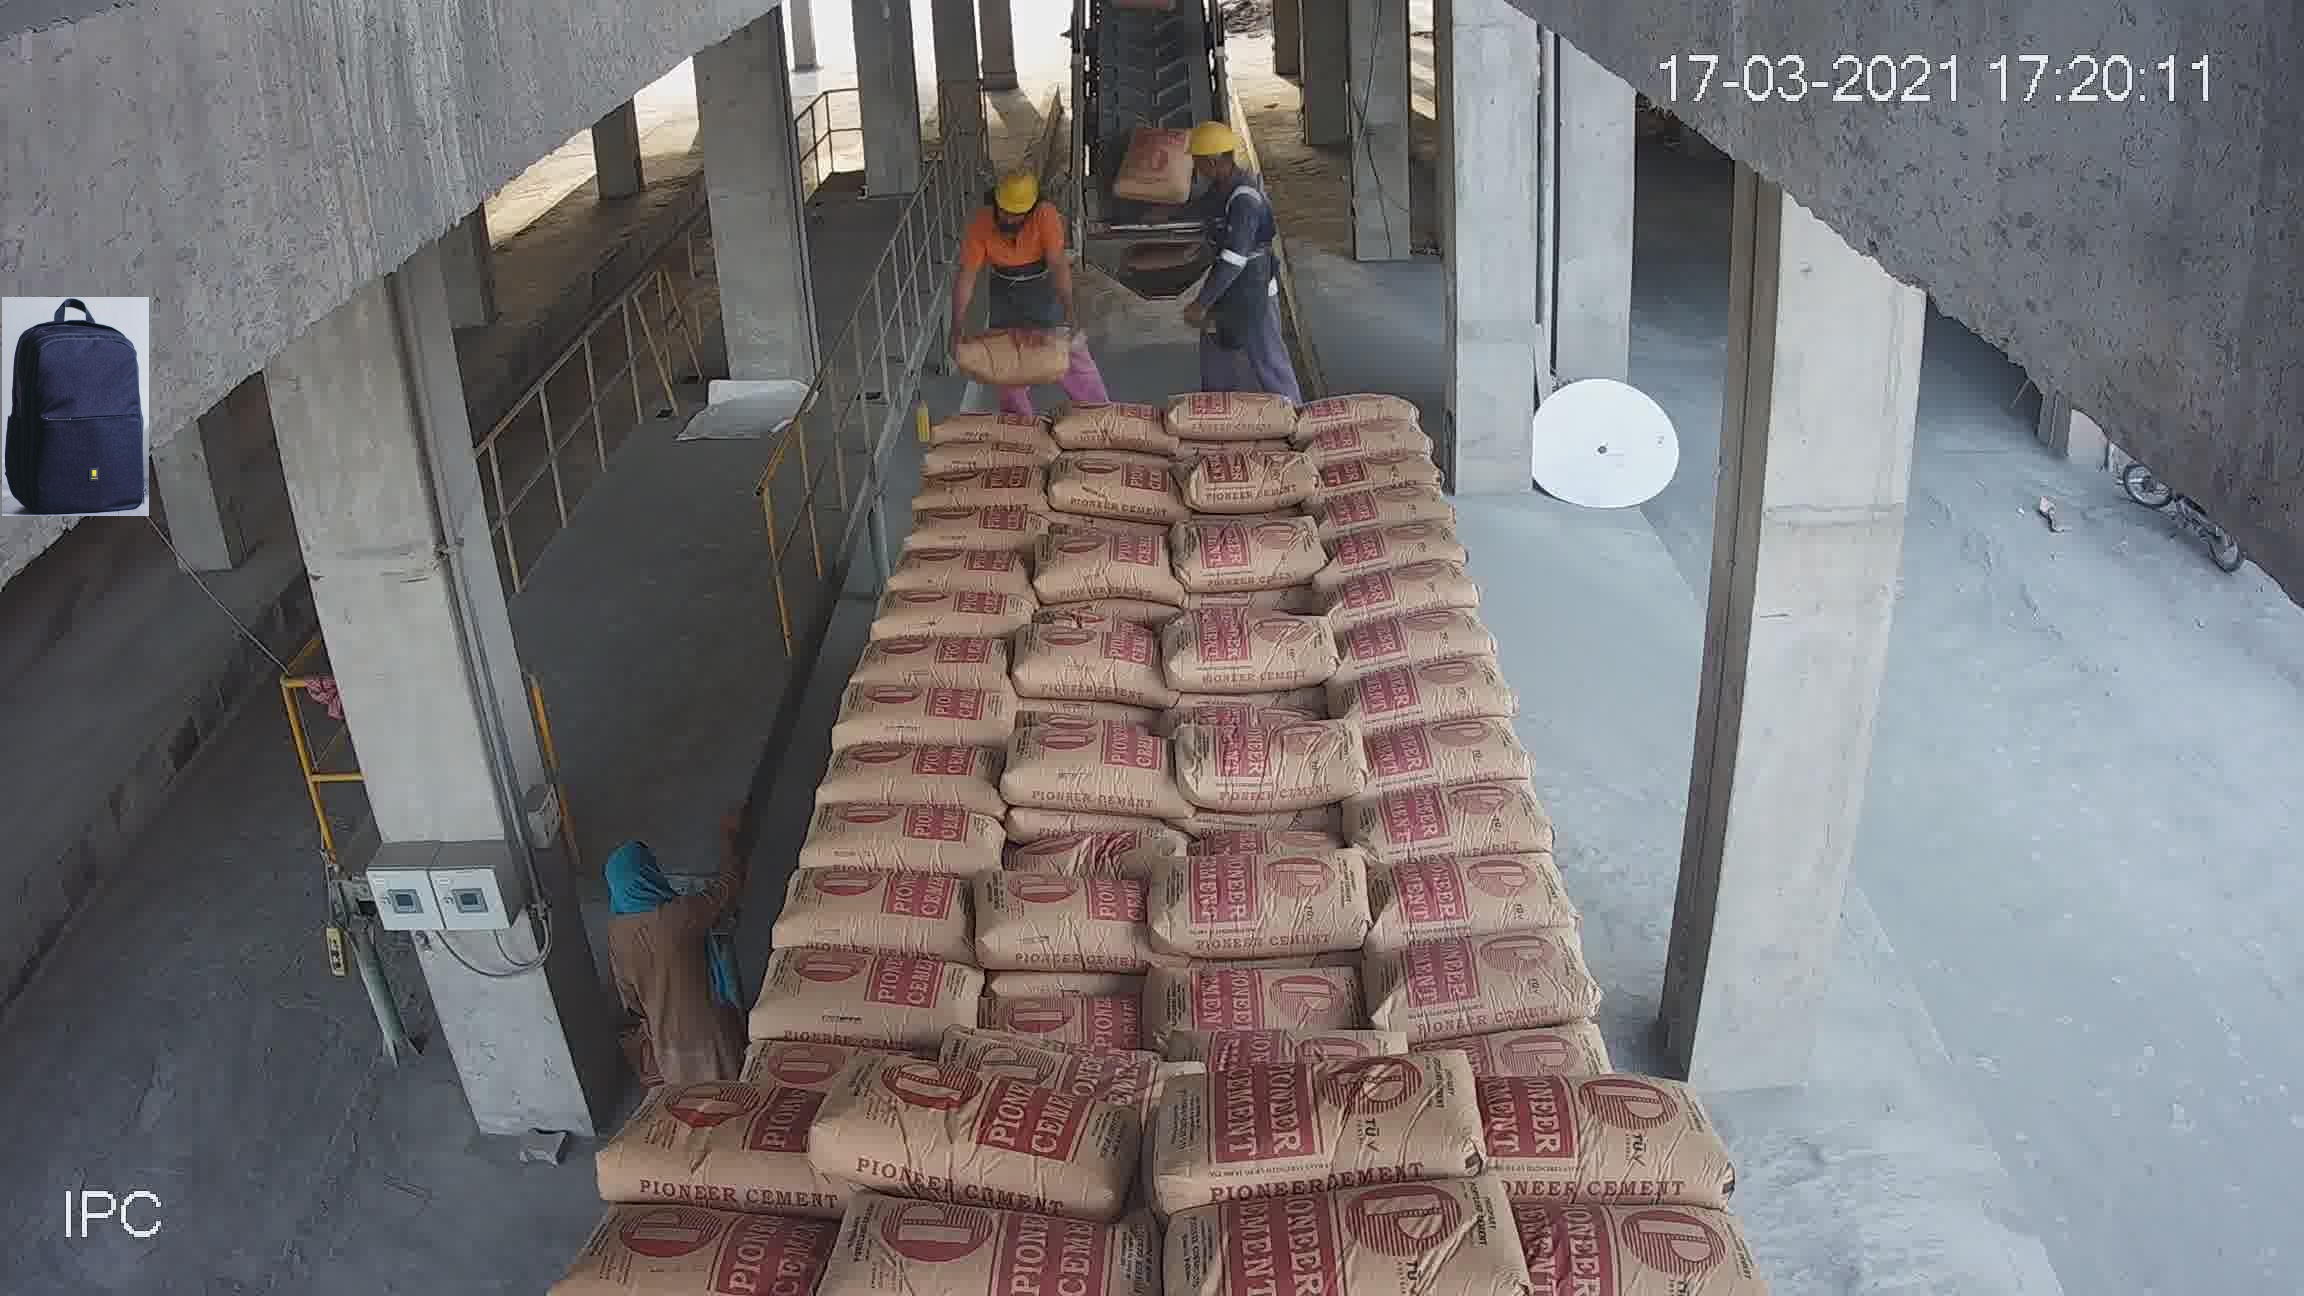bag: (798, 704, 1019, 861), (1090, 301, 1242, 453), (1070, 21, 1215, 63)
bag_h: (1138, 1036, 1499, 1218), (1146, 1141, 1524, 1296), (1143, 919, 1449, 1078), (873, 934, 1152, 1089), (832, 1076, 1135, 1201), (642, 949, 900, 1090), (836, 1187, 1171, 1290), (585, 1081, 809, 1228), (1480, 1078, 1737, 1199), (1544, 1187, 1790, 1296), (554, 1203, 832, 1296), (1147, 840, 1385, 946), (1449, 975, 1684, 1062), (981, 870, 1161, 953), (1478, 832, 1600, 934), (1017, 715, 1192, 783), (1467, 899, 1595, 991), (1067, 777, 1157, 873), (1446, 790, 1563, 858), (1415, 646, 1510, 715), (1431, 718, 1522, 790), (1163, 774, 1242, 851), (1040, 677, 1166, 722), (1328, 383, 1438, 430), (1356, 423, 1451, 453), (1347, 339, 1404, 386), (1328, 320, 1389, 361)
belt: (987, 66, 1310, 563)
